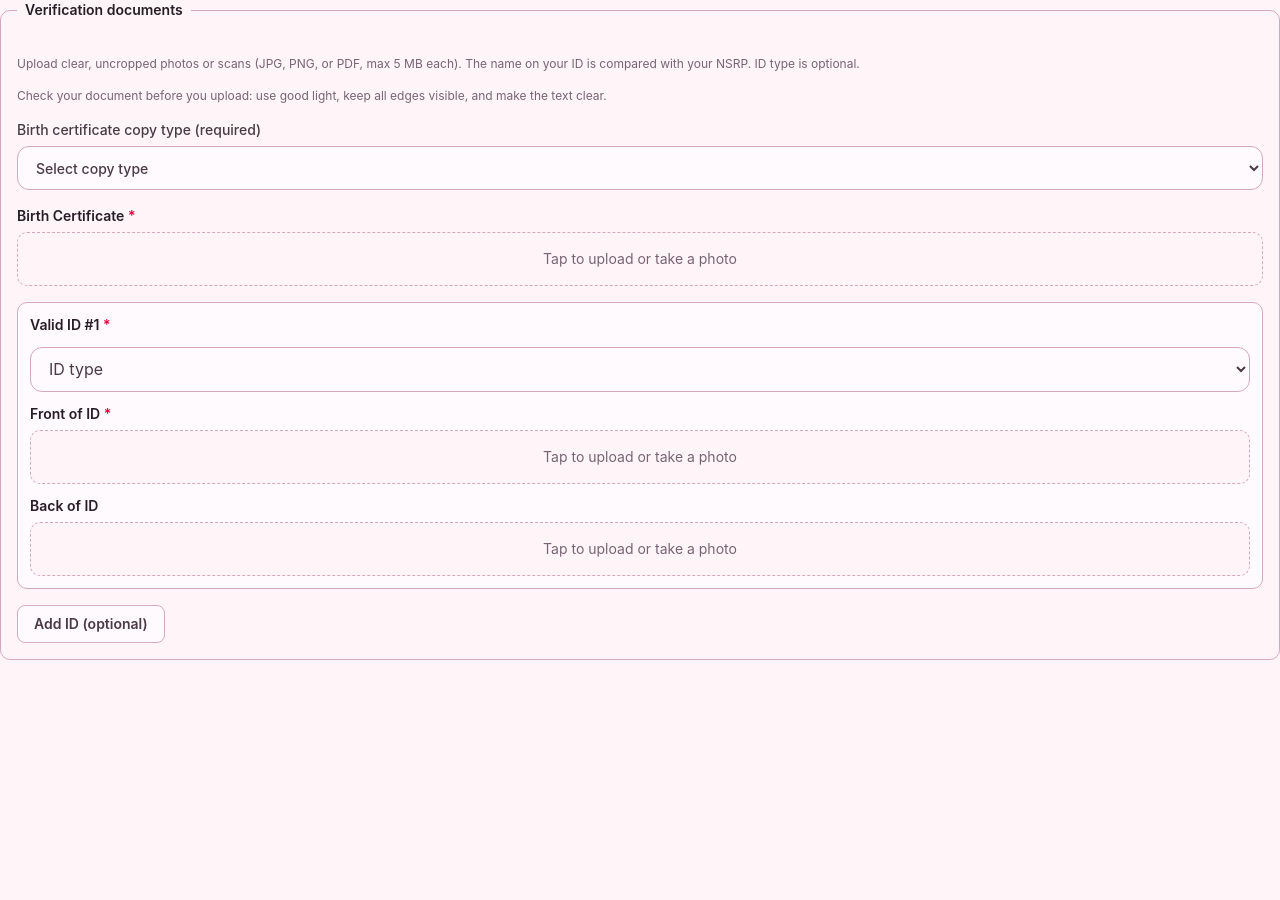
offers the optional ID on demand and clears it when removed
This screenshot has width=1280, height=900.
Click the button "Add ID (optional)".
click(91, 624)  # box [17, 605, 165, 643]
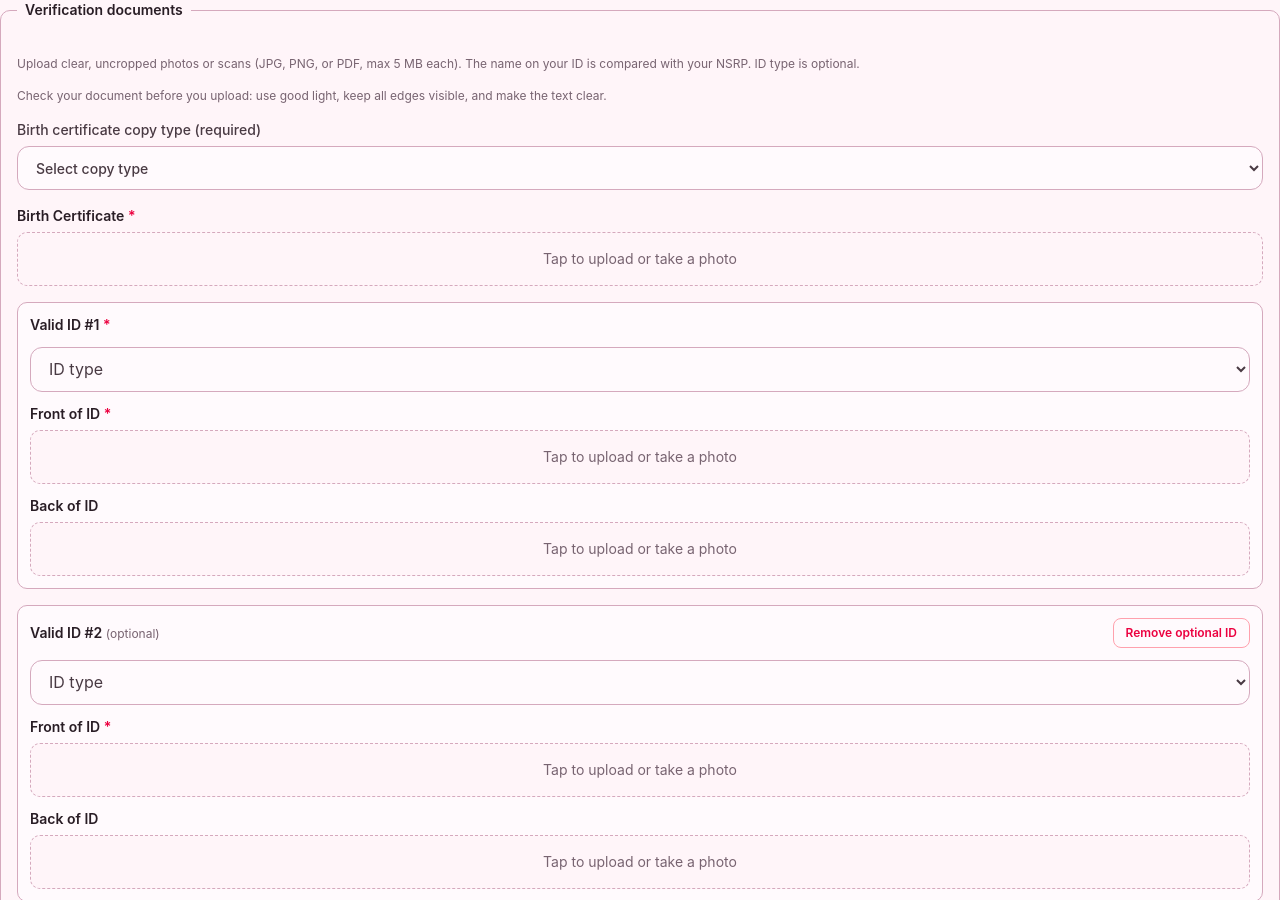
Select "Passport" in the dropdown named "Valid ID #2 type" at (640, 682), box [30, 660, 1250, 705]
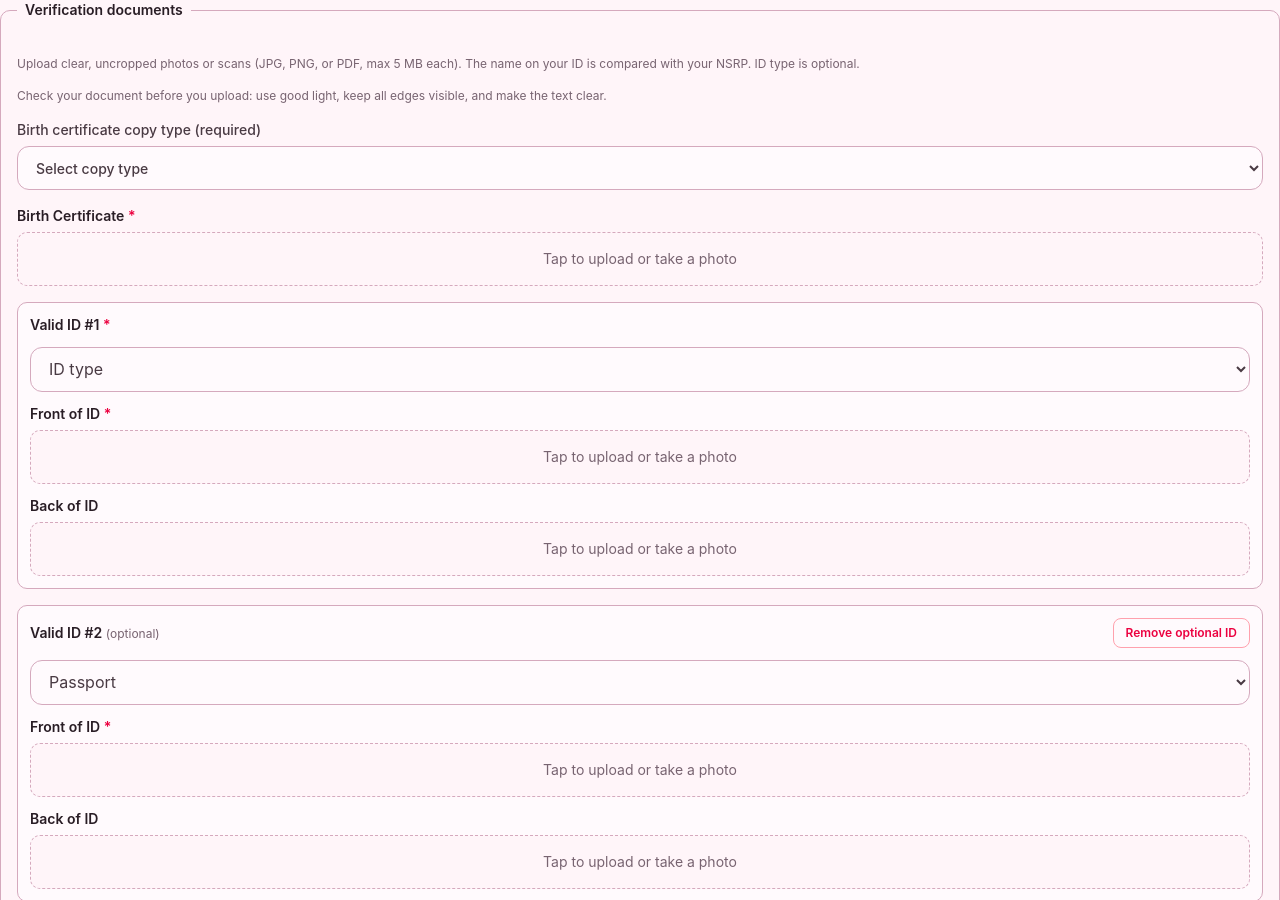
Click the button "Remove optional ID".
click(1181, 633)  # box [1112, 618, 1250, 648]
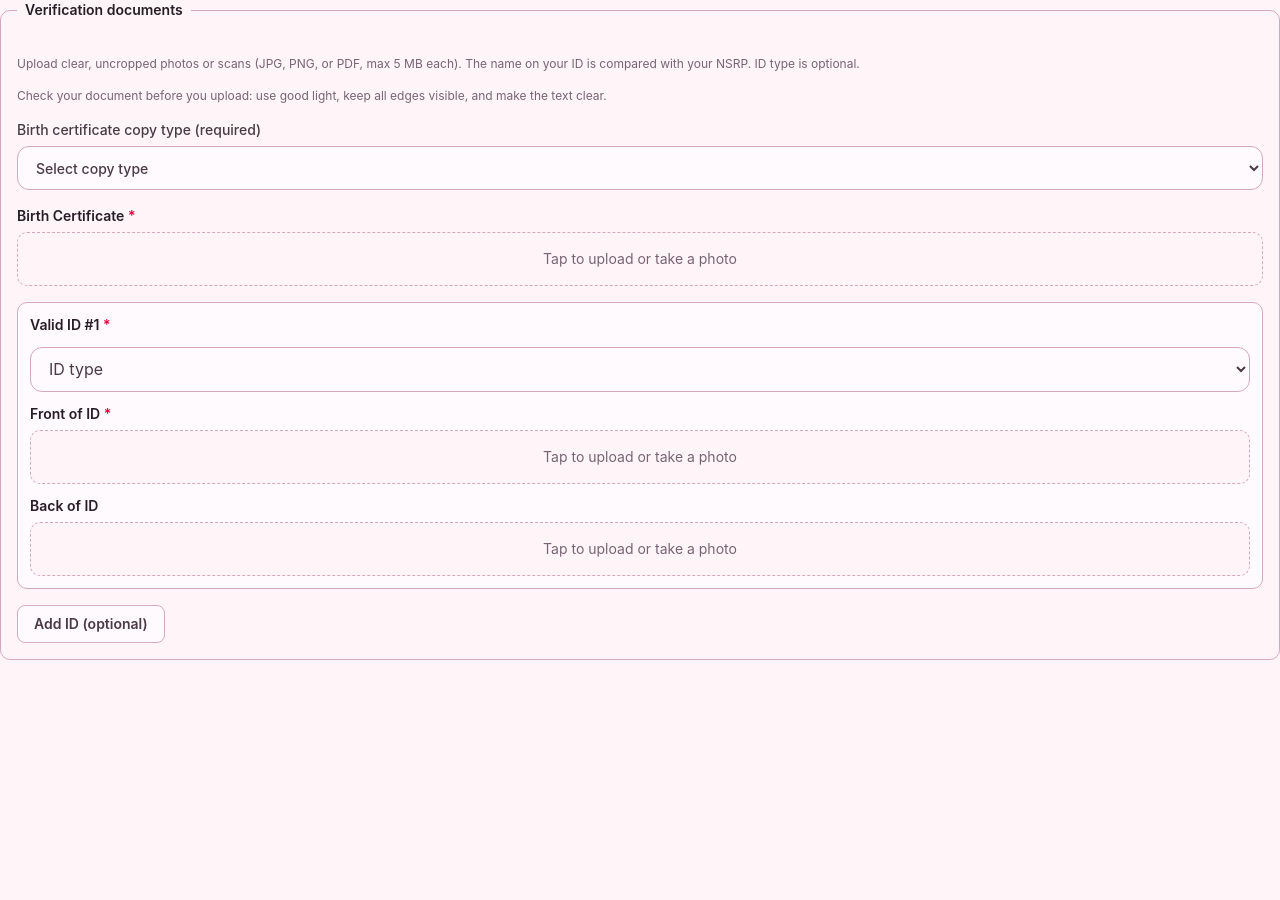
Click the button "Add ID (optional)".
click(91, 624)  # box [17, 605, 165, 643]
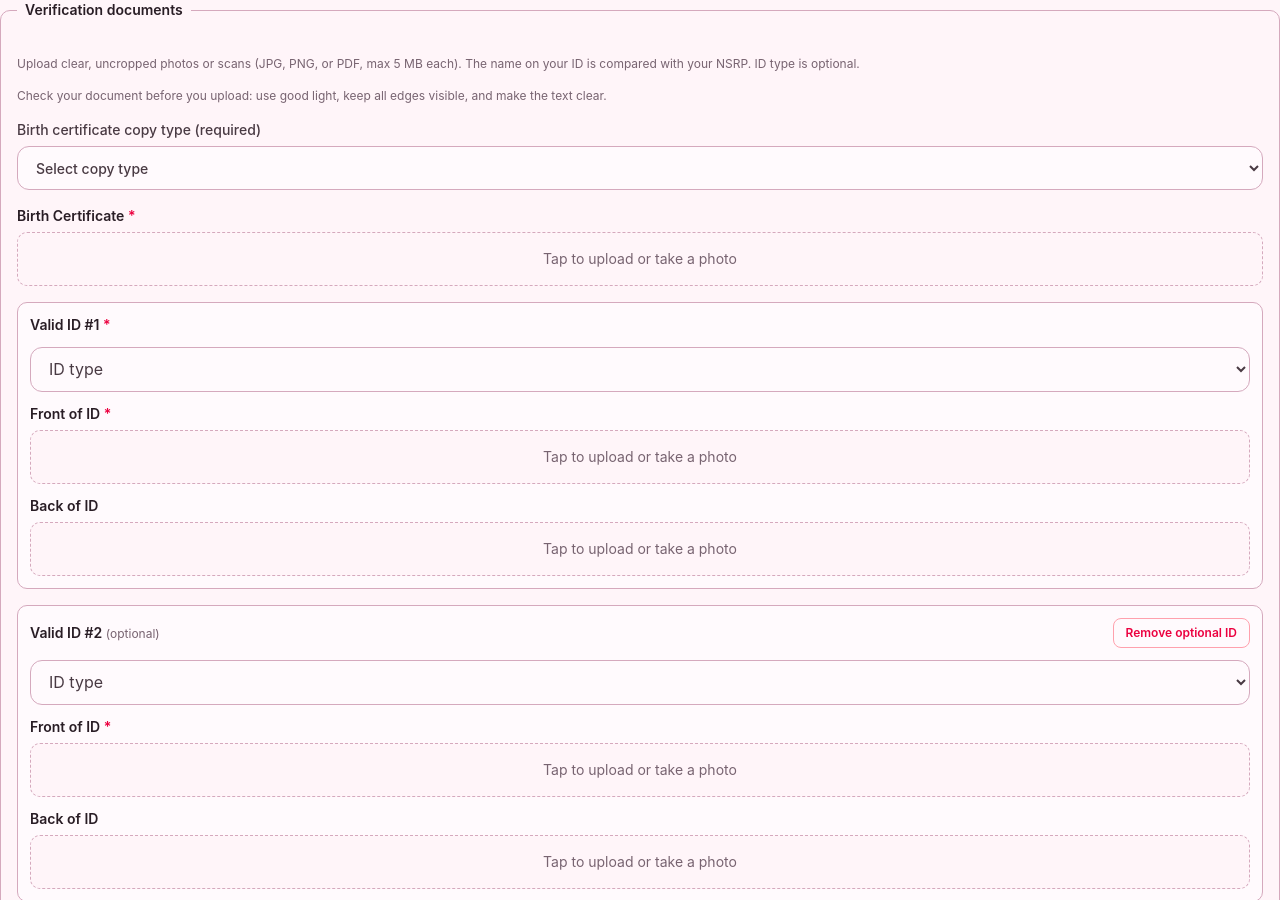
Now the dropdown named "Valid ID #2 type" shows "ID type", box [30, 660, 1250, 705]
